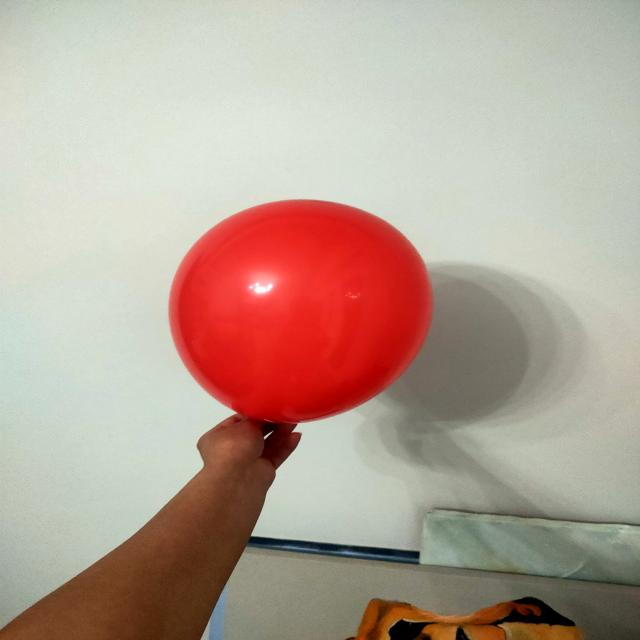red: (170, 199, 431, 424)
